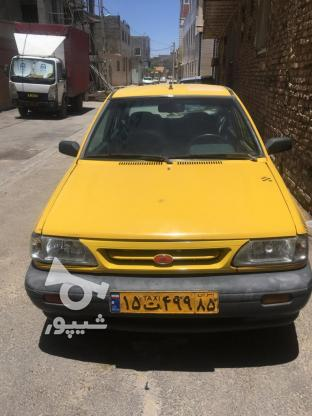car: (108, 290, 219, 315)
